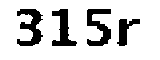1: (48, 8, 79, 50)
3: (11, 6, 43, 50)
5: (84, 7, 115, 50)
r: (115, 15, 144, 53)
